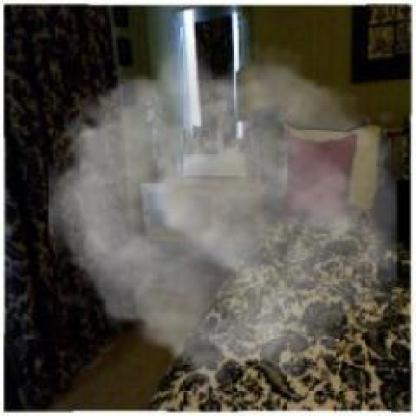Smoke: (48, 36, 398, 396)
